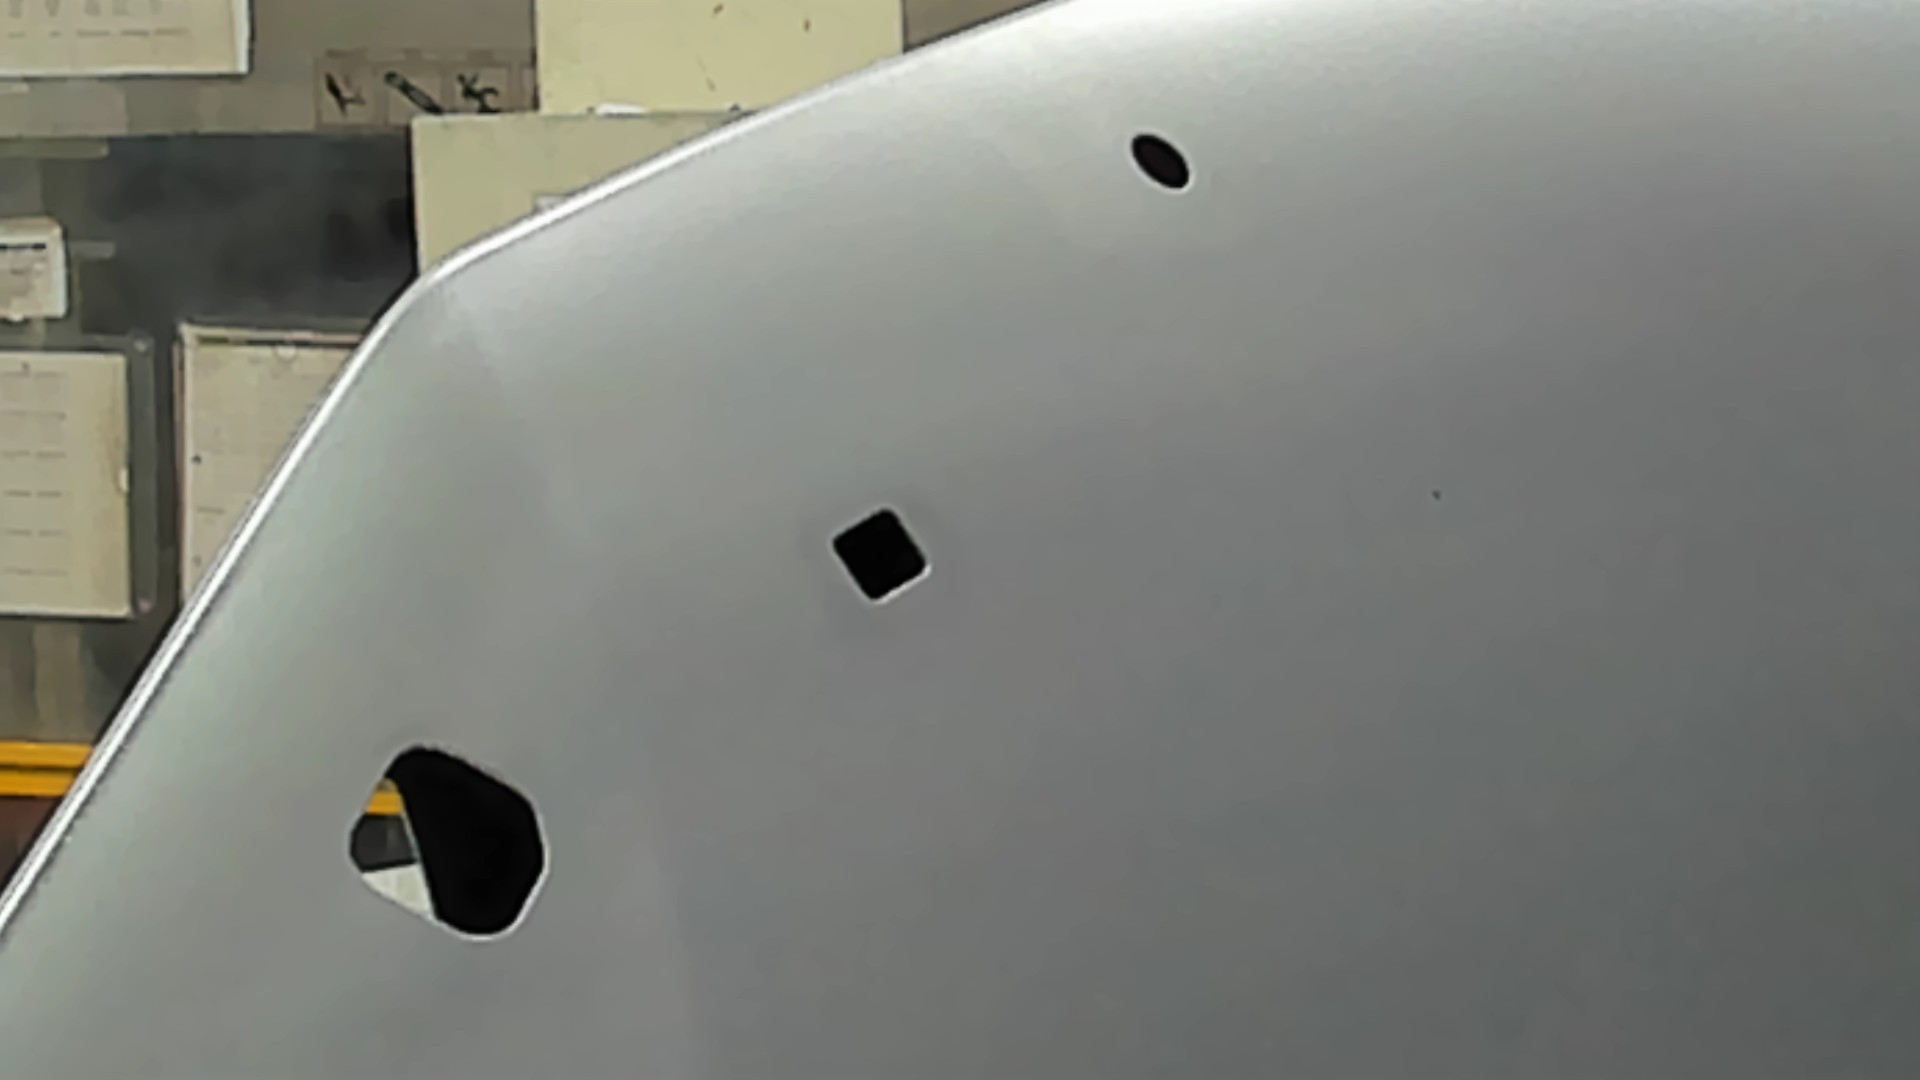chico: (1127, 128, 1195, 195)
grande: (344, 741, 556, 945)
mediano: (829, 504, 935, 608)
